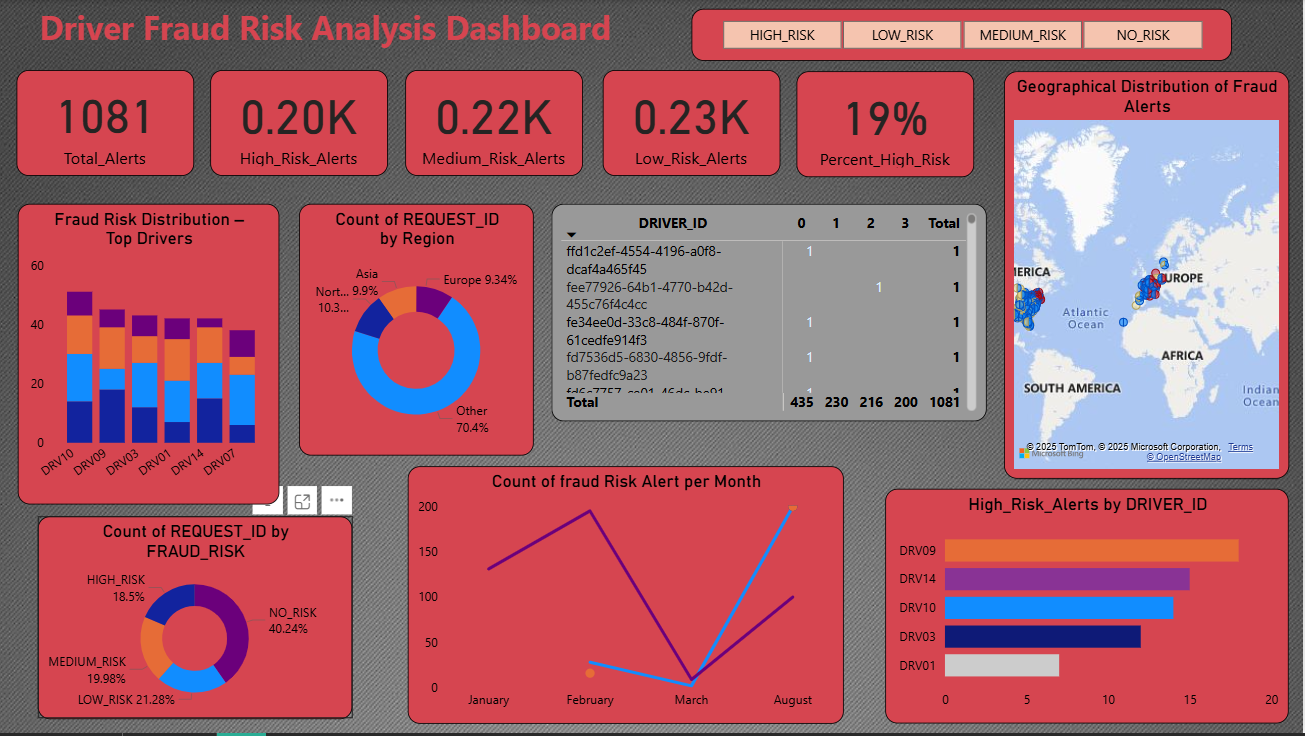

The page's visual inventory and layout, read from the dashboard file:
{"tool":"powerbi","page":{"name":"Page 1","canvas":[1280,720],"ordinal":0},"visuals":[{"type":"textbox","box":[0,0,640.5,60.1],"z":0},{"type":"card","fields":{"Values":["FRAUD_ALERTS.High_Risk_Alerts"]},"box":[207.4,68.7,174.2,104.3],"z":1000},{"type":"card","fields":{"Values":["FRAUD_ALERTS.Medium_Risk_Alerts"]},"box":[398.8,68.7,174.2,104.3],"z":2000},{"type":"card","fields":{"Values":["FRAUD_ALERTS.Low_Risk_Alerts"]},"box":[592.6,68.7,174.2,104.3],"z":3000},{"type":"card","fields":{"Values":["FRAUD_ALERTS.Percent_High_Risk"]},"box":[782.8,69.9,174.2,104.3],"z":4000},{"type":"lineChart","title":"Count of fraud Risk Alert per Month","fields":{"Y":["CountNonNull(FRAUD_ALERTS.REQUEST_ID)"],"Series":["FRAUD_ALERTS.FRAUD_RISK"],"Category":["FRAUD_ALERTS.CANCEL_TIME.Variation.Date Hierarchy.Month"]},"box":[401.2,457.7,428.2,252.8],"z":5000},{"type":"donutChart","fields":{"Category":["FRAUD_ALERTS.FRAUD_RISK"],"Y":["CountNonNull(FRAUD_ALERTS.REQUEST_ID)"]},"box":[38.4,506.3,308.7,199],"z":6000},{"type":"pivotTable","fields":{"Rows":["FRAUD_ALERTS.DRIVER_ID"],"Columns":["FRAUD_ALERTS.FRAUD_SCORE"],"Values":["CountNonNull(FRAUD_ALERTS.REQUEST_ID)"]},"box":[542.3,200,427,213.5],"z":7000},{"type":"clusteredBarChart","fields":{"Y":["FRAUD_ALERTS.High_Risk_Alerts"],"Category":["FRAUD_ALERTS.DRIVER_ID"]},"box":[869.9,479.8,396.3,230.7],"z":8000},{"type":"card","fields":{"Values":["FRAUD_ALERTS.Total_Alerts"]},"box":[17.2,68.7,174.2,104.3],"z":9000},{"type":"map","title":"Geographical Distribution of Fraud Alerts","fields":{"Category":["FRAUD_ALERTS.PICKUP_DISTANCE"],"Series":["FRAUD_ALERTS.FRAUD_RISK"]},"box":[986.5,69.9,279.8,400],"z":10000},{"type":"columnChart","title":"Fraud Risk Distribution – Top Drivers","fields":{"Category":["FRAUD_ALERTS.DRIVER_ID"],"Y":["CountNonNull(FRAUD_ALERTS.REQUEST_ID)"],"Series":["FRAUD_ALERTS.FRAUD_RISK"]},"box":[17.8,200.3,256.6,295],"z":11000},{"type":"slicer","fields":{"Values":["FRAUD_ALERTS.FRAUD_RISK"]},"box":[679.8,8.6,530.1,51.5],"z":12000},{"type":"donutChart","fields":{"Category":["FRAUD_ALERTS.Region"],"Y":["CountNonNull(FRAUD_ALERTS.REQUEST_ID)"]},"box":[294.5,200,230.7,247],"z":13000}]}

Visuals, with their boxes in screenshot pixels (x1, y1, x2, y2), scaled from the page's 1280x720 canvas onto the 1305x736 screenshot:
textbox: <region>0, 0, 653, 61</region>
card - FRAUD_ALERTS.High_Risk_Alerts: <region>211, 70, 389, 177</region>
card - FRAUD_ALERTS.Medium_Risk_Alerts: <region>407, 70, 584, 177</region>
card - FRAUD_ALERTS.Low_Risk_Alerts: <region>604, 70, 782, 177</region>
card - FRAUD_ALERTS.Percent_High_Risk: <region>798, 71, 976, 178</region>
"Count of fraud Risk Alert per Month" lineChart: <region>409, 468, 846, 726</region>
donutChart - FRAUD_ALERTS.FRAUD_RISK x CountNonNull(FRAUD_ALERTS.REQUEST_ID): <region>39, 518, 354, 721</region>
pivotTable - FRAUD_ALERTS.DRIVER_ID x FRAUD_ALERTS.FRAUD_SCORE: <region>553, 204, 988, 423</region>
clusteredBarChart - FRAUD_ALERTS.High_Risk_Alerts x FRAUD_ALERTS.DRIVER_ID: <region>887, 490, 1291, 726</region>
card - FRAUD_ALERTS.Total_Alerts: <region>18, 70, 195, 177</region>
"Geographical Distribution of Fraud Alerts" map: <region>1006, 71, 1291, 480</region>
"Fraud Risk Distribution – Top Drivers" columnChart: <region>18, 205, 280, 506</region>
slicer - FRAUD_ALERTS.FRAUD_RISK: <region>693, 9, 1234, 61</region>
donutChart - FRAUD_ALERTS.Region x CountNonNull(FRAUD_ALERTS.REQUEST_ID): <region>300, 204, 535, 457</region>
